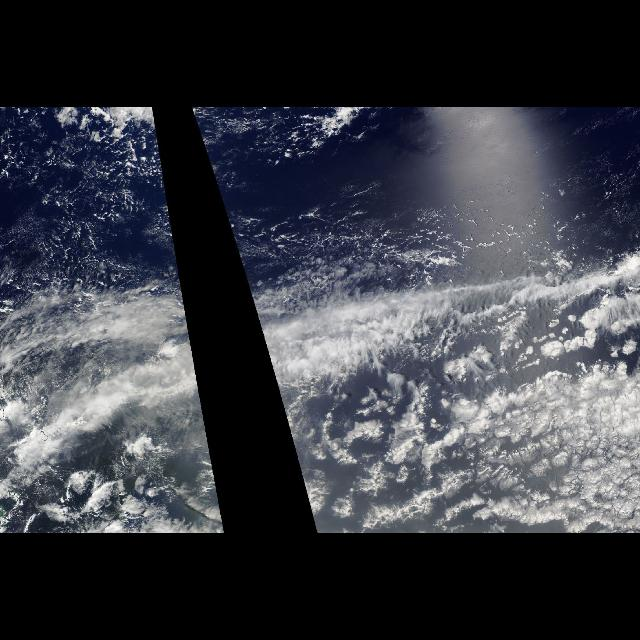Gravel: (190, 107, 608, 265), (1, 108, 180, 276)
